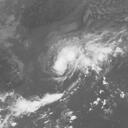cyclone: (49, 37, 98, 79)
